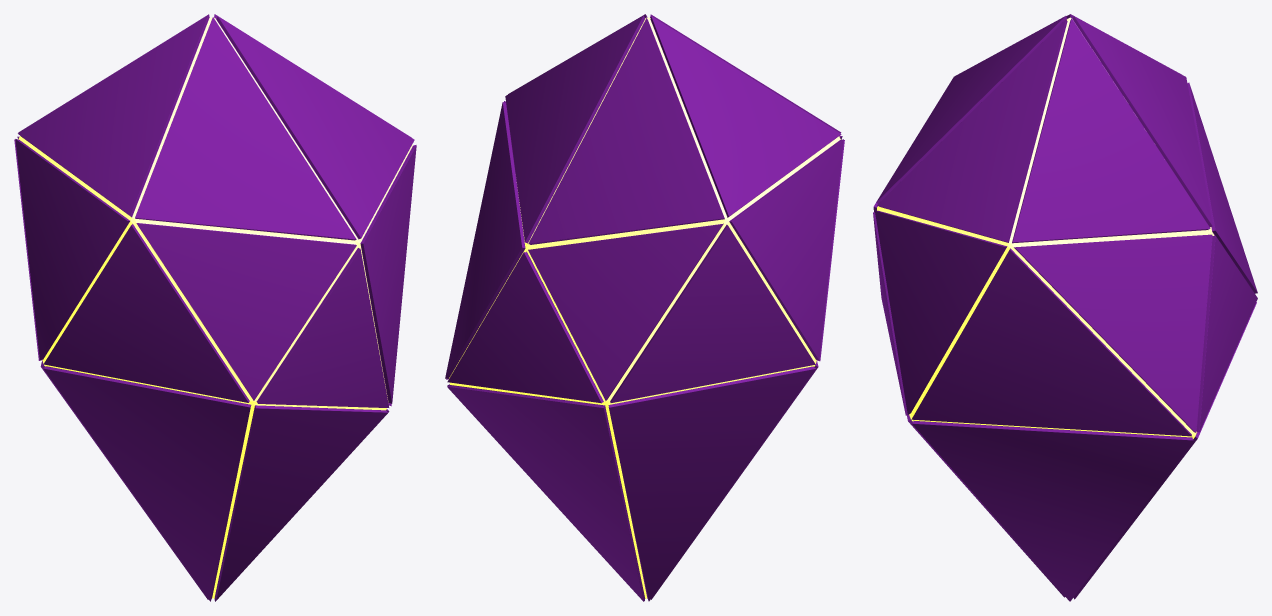
Rendered from Gem with glow.fbx.
3 views of the same model, side by side, from view 1: azimuth 30°, elevation 25°; view 2: azimuth 150°, elevation 25°; view 3: azimuth 270°, elevation 25° (orthographic).
Parts seen in each view (by area): view 1: Icosphere; view 2: Icosphere; view 3: Icosphere.
Part boxes in pixels (left/top/right/bottom): Icosphere: left=14, top=14, right=416, bottom=601; Icosphere: left=445, top=14, right=844, bottom=601; Icosphere: left=873, top=14, right=1257, bottom=601.
Size of the model in its own units: 0.6158 by 1 by 0.5968.
